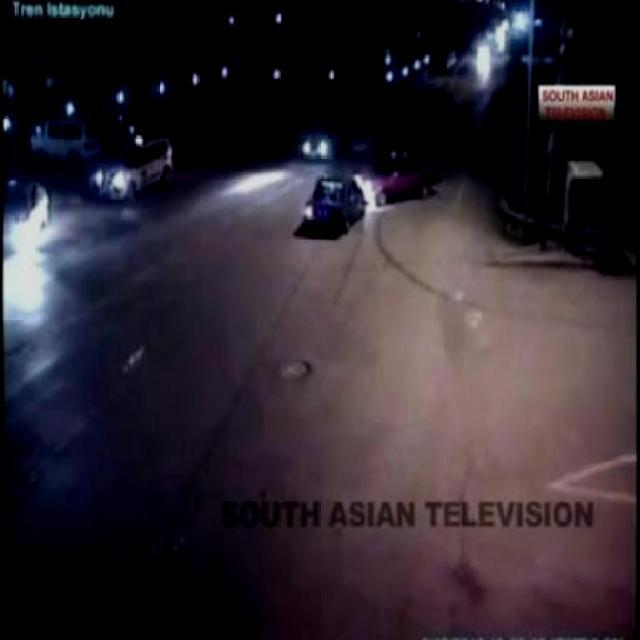accident: (303, 142, 440, 240)
